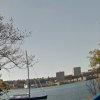Tree: (85, 47, 99, 87)
